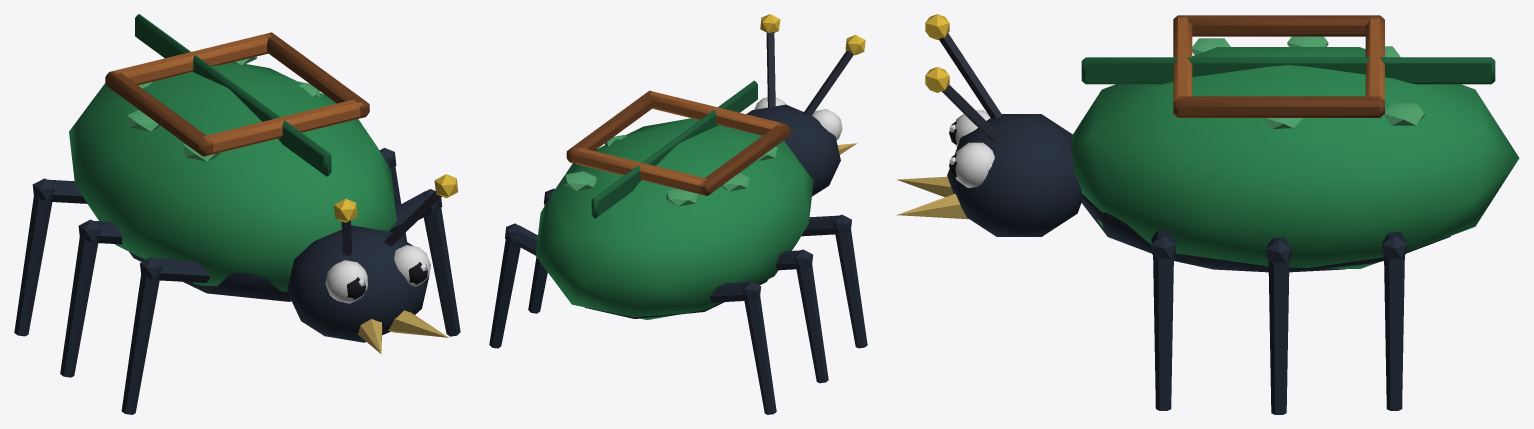
The model's file is comp_kaefer.glb.
The picture shows the model from 3 angles, left to right: view 1: azimuth 30°, elevation 25°; view 2: azimuth 150°, elevation 25°; view 3: azimuth 270°, elevation 25°; orthographic projection. The views are drawn at different scales.
Visible parts, largest first — view 1: body, head, leg_fl, leg_bl, leg_ml, leg_fr, leg_mr; view 2: body, head, leg_bl, leg_fl, leg_ml, leg_br, leg_mr; view 3: body, head, leg_fr, leg_br, leg_mr.
Part boxes in pixels (box(x1,y1,x2,y2)): body: box(69, 14, 396, 301); head: box(287, 174, 458, 353); leg_fl: box(121, 257, 209, 414); leg_bl: box(14, 178, 87, 336); leg_ml: box(60, 219, 122, 377); leg_fr: box(389, 189, 460, 336); leg_mr: box(379, 148, 406, 241); body: box(535, 80, 813, 319); head: box(746, 14, 865, 196); leg_bl: box(709, 281, 776, 414); leg_fl: box(801, 214, 867, 348); leg_ml: box(776, 249, 828, 383); leg_br: box(489, 223, 537, 348); leg_mr: box(528, 188, 554, 313); body: box(1070, 15, 1519, 272); head: box(896, 14, 1081, 236); leg_fr: box(1151, 230, 1175, 410); leg_br: box(1382, 232, 1406, 410); leg_mr: box(1266, 237, 1291, 414).
Size of the model in its own units: 0.9073 by 0.6524 by 1.3.
